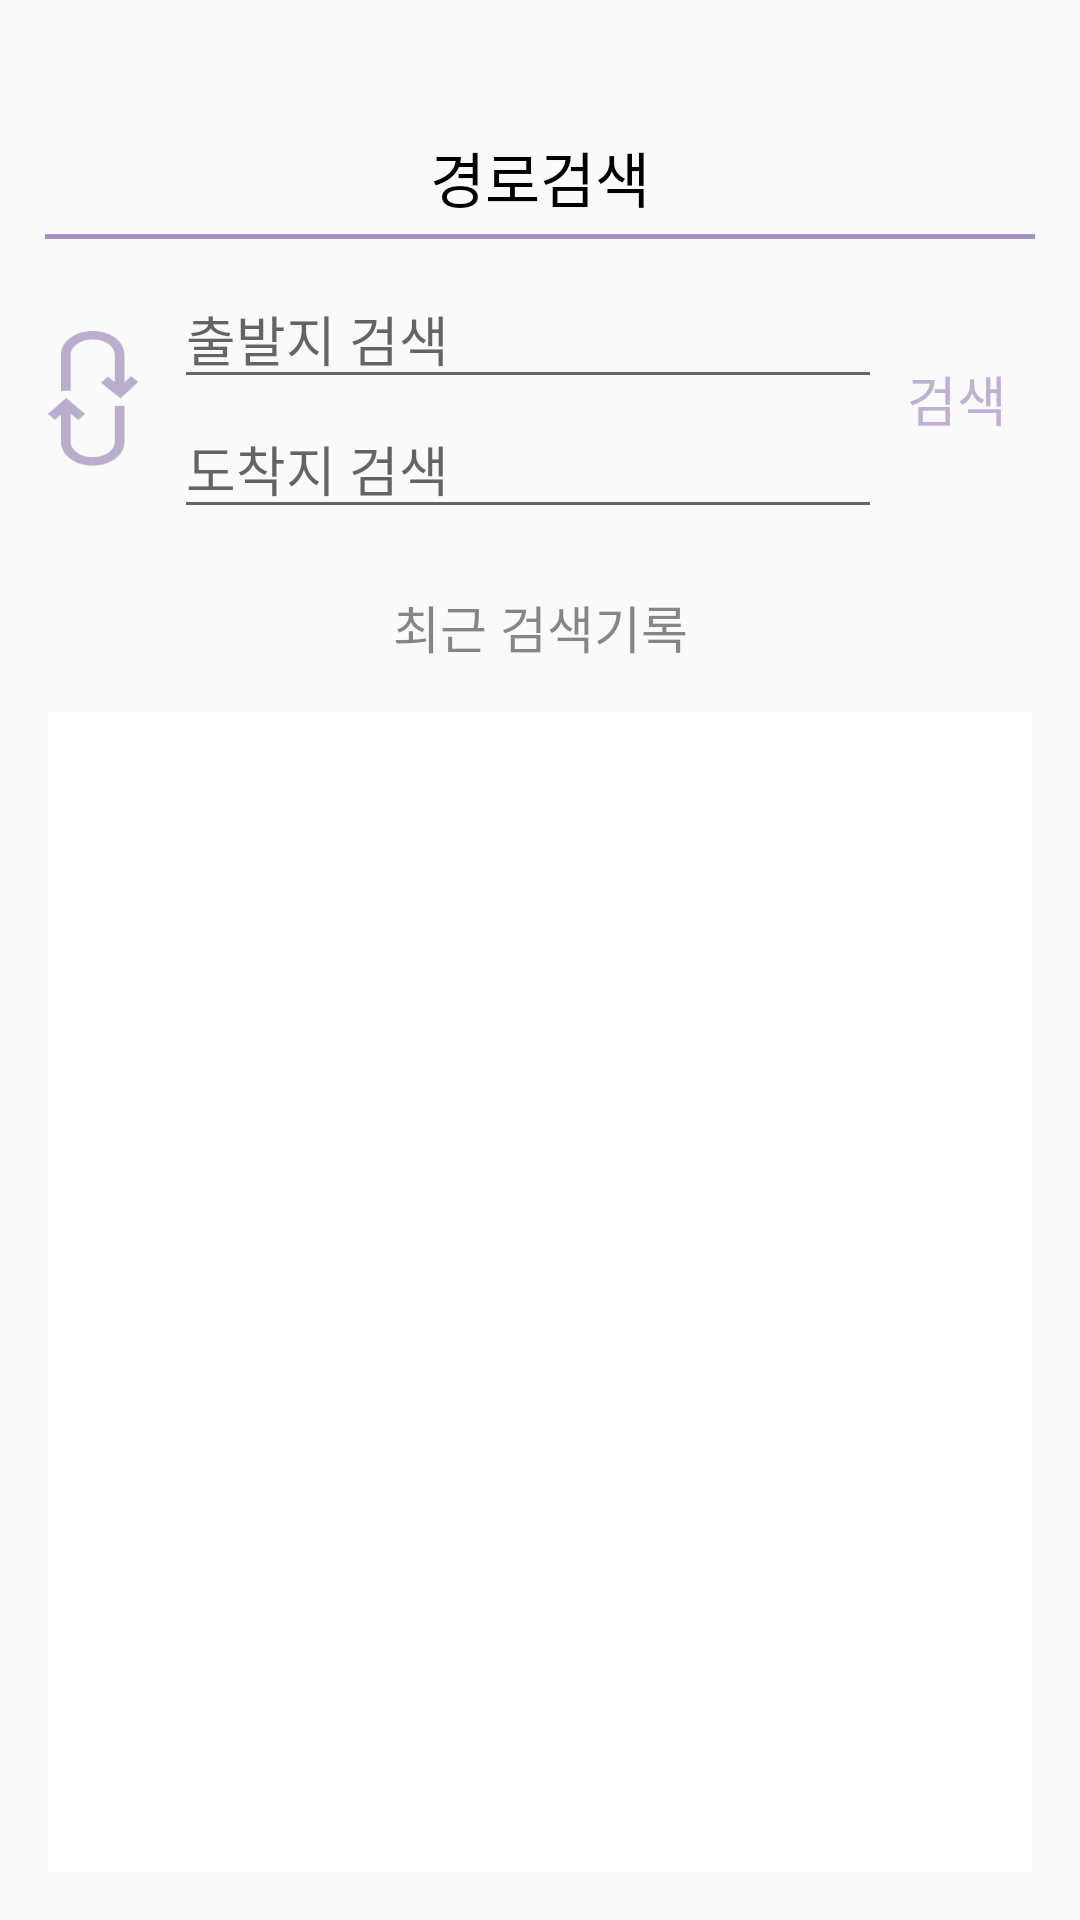

Named icons in this screenshot (1080px×1920px) and their centers, (x,y):
swap: (93,398)
